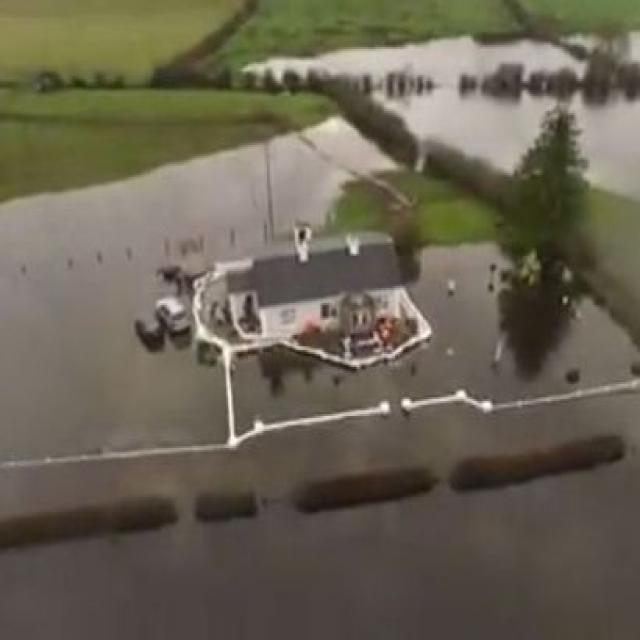flooded_areas: (0, 58, 618, 602)
